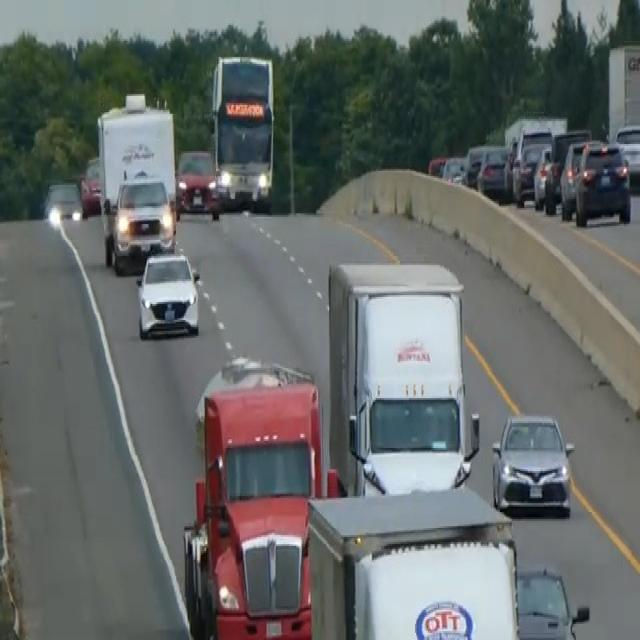bus: (209, 52, 276, 212)
car: (490, 409, 575, 517), (104, 171, 176, 270), (135, 247, 201, 340), (514, 564, 590, 638), (573, 137, 631, 227), (175, 146, 220, 218), (558, 137, 589, 219), (476, 144, 512, 201), (42, 178, 83, 228), (513, 140, 545, 204), (614, 121, 639, 183), (78, 155, 103, 215), (532, 144, 553, 208), (463, 142, 486, 187), (441, 153, 465, 185), (427, 153, 447, 178)
lorry: (182, 354, 340, 638), (327, 258, 480, 496)
